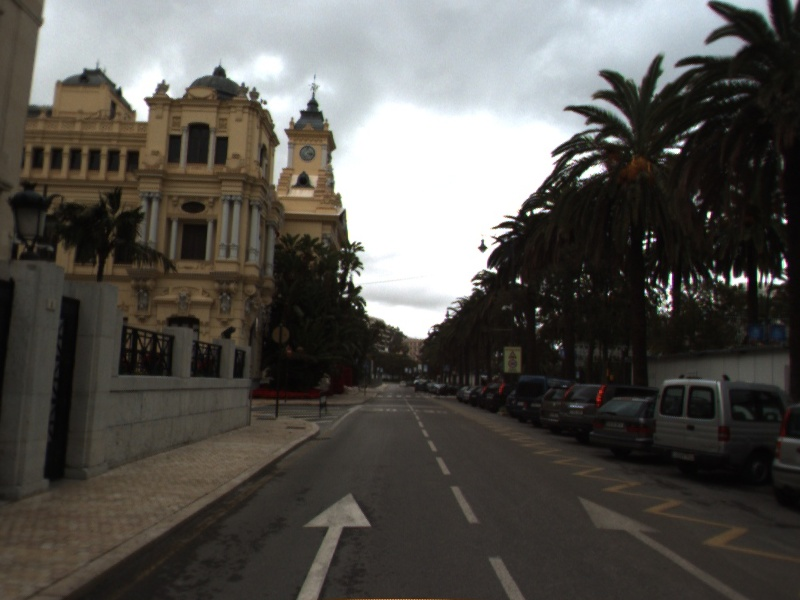STRAIGHT: (574, 494, 753, 600), (292, 490, 374, 600)
